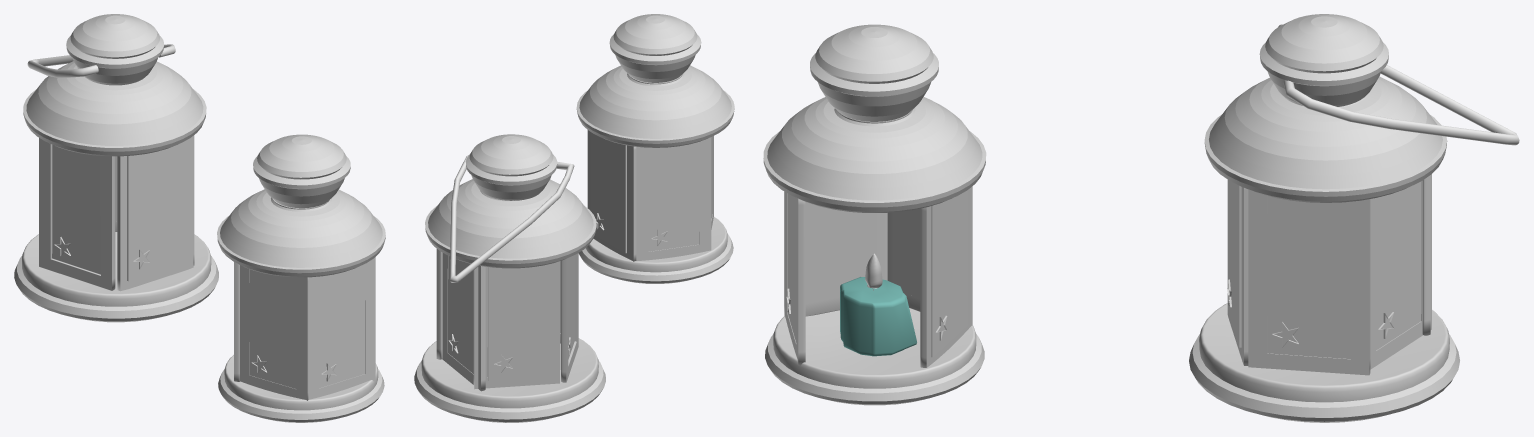
Rendered from Laternen.FBX.
3 renders of one model, left to right at view 1: azimuth 30°, elevation 25°; view 2: azimuth 150°, elevation 25°; view 3: azimuth 270°, elevation 25°, orthographic. The views are drawn at different scales.
Visible parts, largest first — view 1: laterne middle, laterne middle001, laterne unten, glass002, glass008, Laterne offen, laterne oben, glass004, glass007, laterne unten001, frame008, frame002 (+4 smaller); view 2: laterne middle, laterne middle001, laterne unten, glass003, glass006, Laterne offen, laterne oben, laterne unten001, glass005, frame006, glass001, frame003 (+6 smaller); view 3: laterne middle, laterne middle001, laterne unten, glass, laterne unten001, Laterne offen, laterne oben, frame, glass001, glass004, glass005, the candle wax (+10 smaller).
Boxes of the visible parts, left/top/right/bottom form: laterne middle: left=23, top=61, right=206, bottom=156; laterne middle001: left=217, top=189, right=385, bottom=277; laterne unten: left=14, top=232, right=218, bottom=322; glass002: left=127, top=142, right=183, bottom=281; glass008: left=52, top=145, right=100, bottom=274; Laterne offen: left=253, top=134, right=350, bottom=208; laterne oben: left=66, top=14, right=163, bottom=85; glass004: left=249, top=269, right=296, bottom=389; glass007: left=318, top=264, right=364, bottom=388; laterne unten001: left=218, top=355, right=384, bottom=422; frame008: left=39, top=138, right=115, bottom=290; frame002: left=117, top=136, right=193, bottom=291; laterne middle: left=425, top=179, right=596, bottom=268; laterne middle001: left=576, top=65, right=734, bottom=147; laterne unten: left=414, top=338, right=605, bottom=422; glass003: left=487, top=263, right=552, bottom=381; glass006: left=648, top=142, right=699, bottom=251; Laterne offen: left=609, top=14, right=701, bottom=82; laterne oben: left=465, top=134, right=557, bottom=200; laterne unten001: left=578, top=217, right=733, bottom=283; glass005: left=591, top=132, right=626, bottom=253; frame006: left=636, top=137, right=711, bottom=261; glass001: left=448, top=256, right=473, bottom=373; frame003: left=473, top=261, right=559, bottom=389; laterne middle: left=1204, top=76, right=1447, bottom=202; laterne middle001: left=763, top=97, right=986, bottom=212; laterne unten: left=1189, top=303, right=1459, bottom=422; glass: left=1267, top=196, right=1350, bottom=358; laterne unten001: left=765, top=308, right=984, bottom=405; Laterne offen: left=810, top=24, right=938, bottom=121; laterne oben: left=1259, top=14, right=1388, bottom=106; frame: left=1248, top=190, right=1370, bottom=375; glass001: left=1376, top=181, right=1421, bottom=350; glass004: left=805, top=202, right=872, bottom=303; glass005: left=931, top=190, right=967, bottom=357; the candle wax: left=840, top=277, right=916, bottom=356.
Size of the model in its own units: 15.55 by 23.4 by 43.33.
